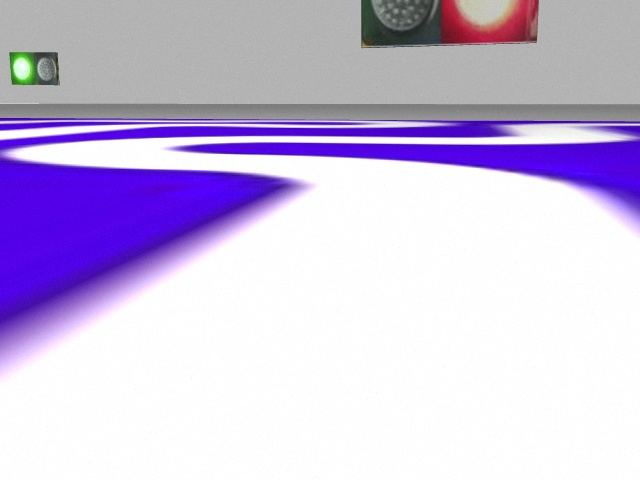red: (438, 1, 536, 40)
